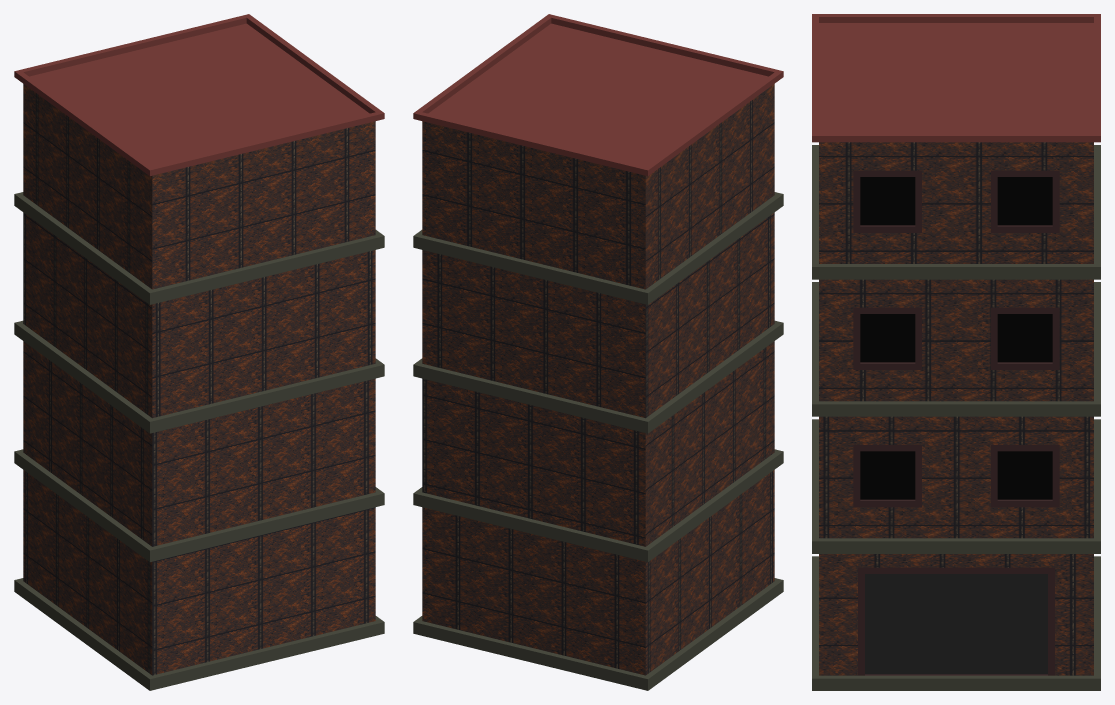
The model's file is buil6.glb.
3 renders of one model, left to right at view 1: azimuth 30°, elevation 25°; view 2: azimuth 150°, elevation 25°; view 3: azimuth 270°, elevation 25°, orthographic. The views are drawn at different scales.
Parts seen in each view (by area): view 1: building_006.001; view 2: building_006.001; view 3: building_006.001.
Boxes of the visible parts, <box> form: building_006.001: <box>14,14,384,690</box>; building_006.001: <box>413,14,783,690</box>; building_006.001: <box>812,14,1100,690</box>.
Bounding box in the file's own units: 4.2 × 8.9 × 4.2.
6 materials, 1 textured.
